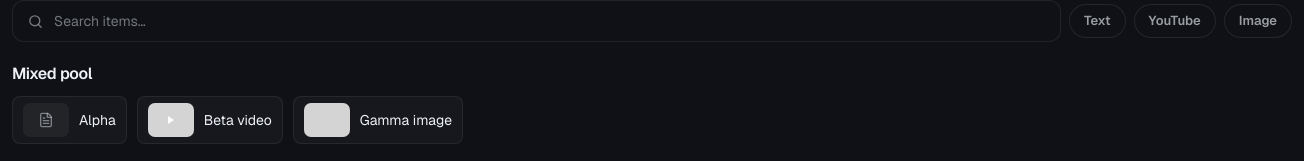
PackContentsPreview › search and type filter › filters items by search text
In the search field named "Search pack items": (550, 21) [54,11,1046,31], type "beta"
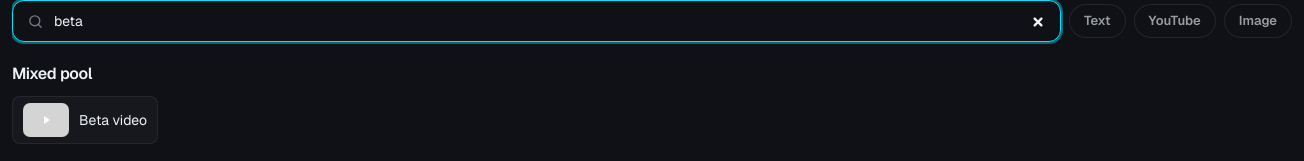
expect the text "Beta video" is shown: met, box [79,110,147,130]
expect the text "Alpha" is gone: met
expect the text "Gamma image" is gone: met
